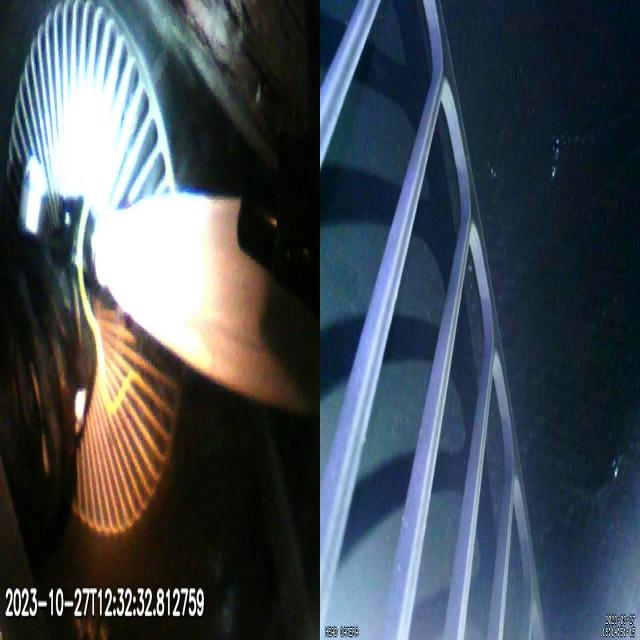head: (19, 155, 46, 234)
